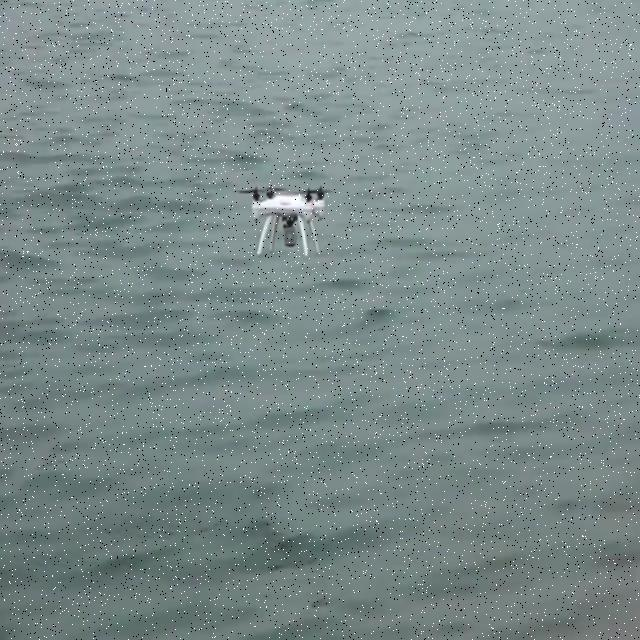UAV: (247, 183, 327, 259)
